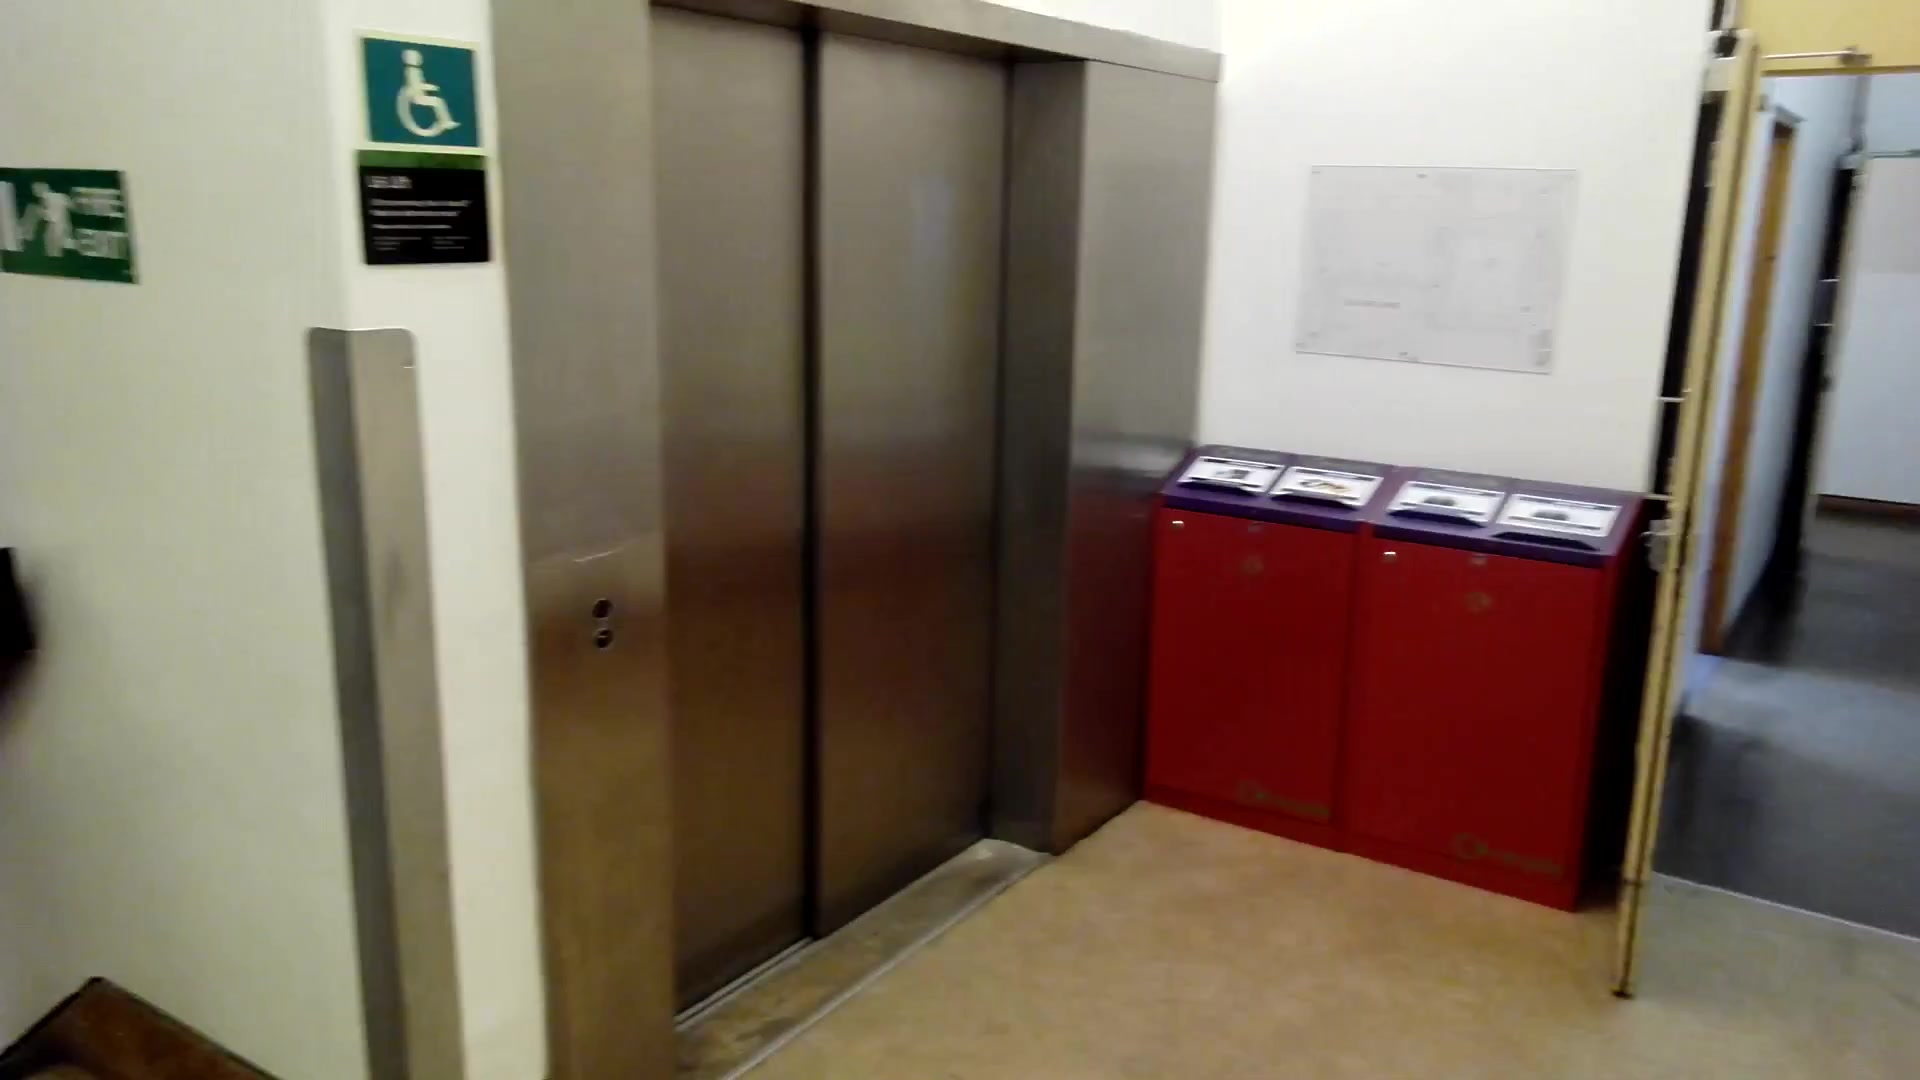Bin: (1156, 435, 1602, 915)
